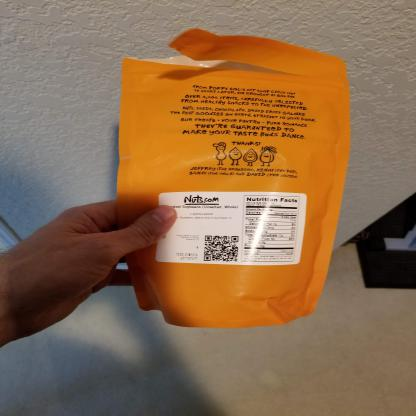qr: (201, 230, 242, 263)
